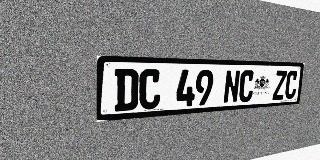4: (176, 69, 196, 107)
9: (195, 70, 214, 106)
C: (138, 69, 161, 110), (238, 70, 255, 103), (284, 71, 298, 99)
D: (114, 69, 139, 112)
N: (223, 70, 241, 104)
Z: (272, 70, 287, 100)
